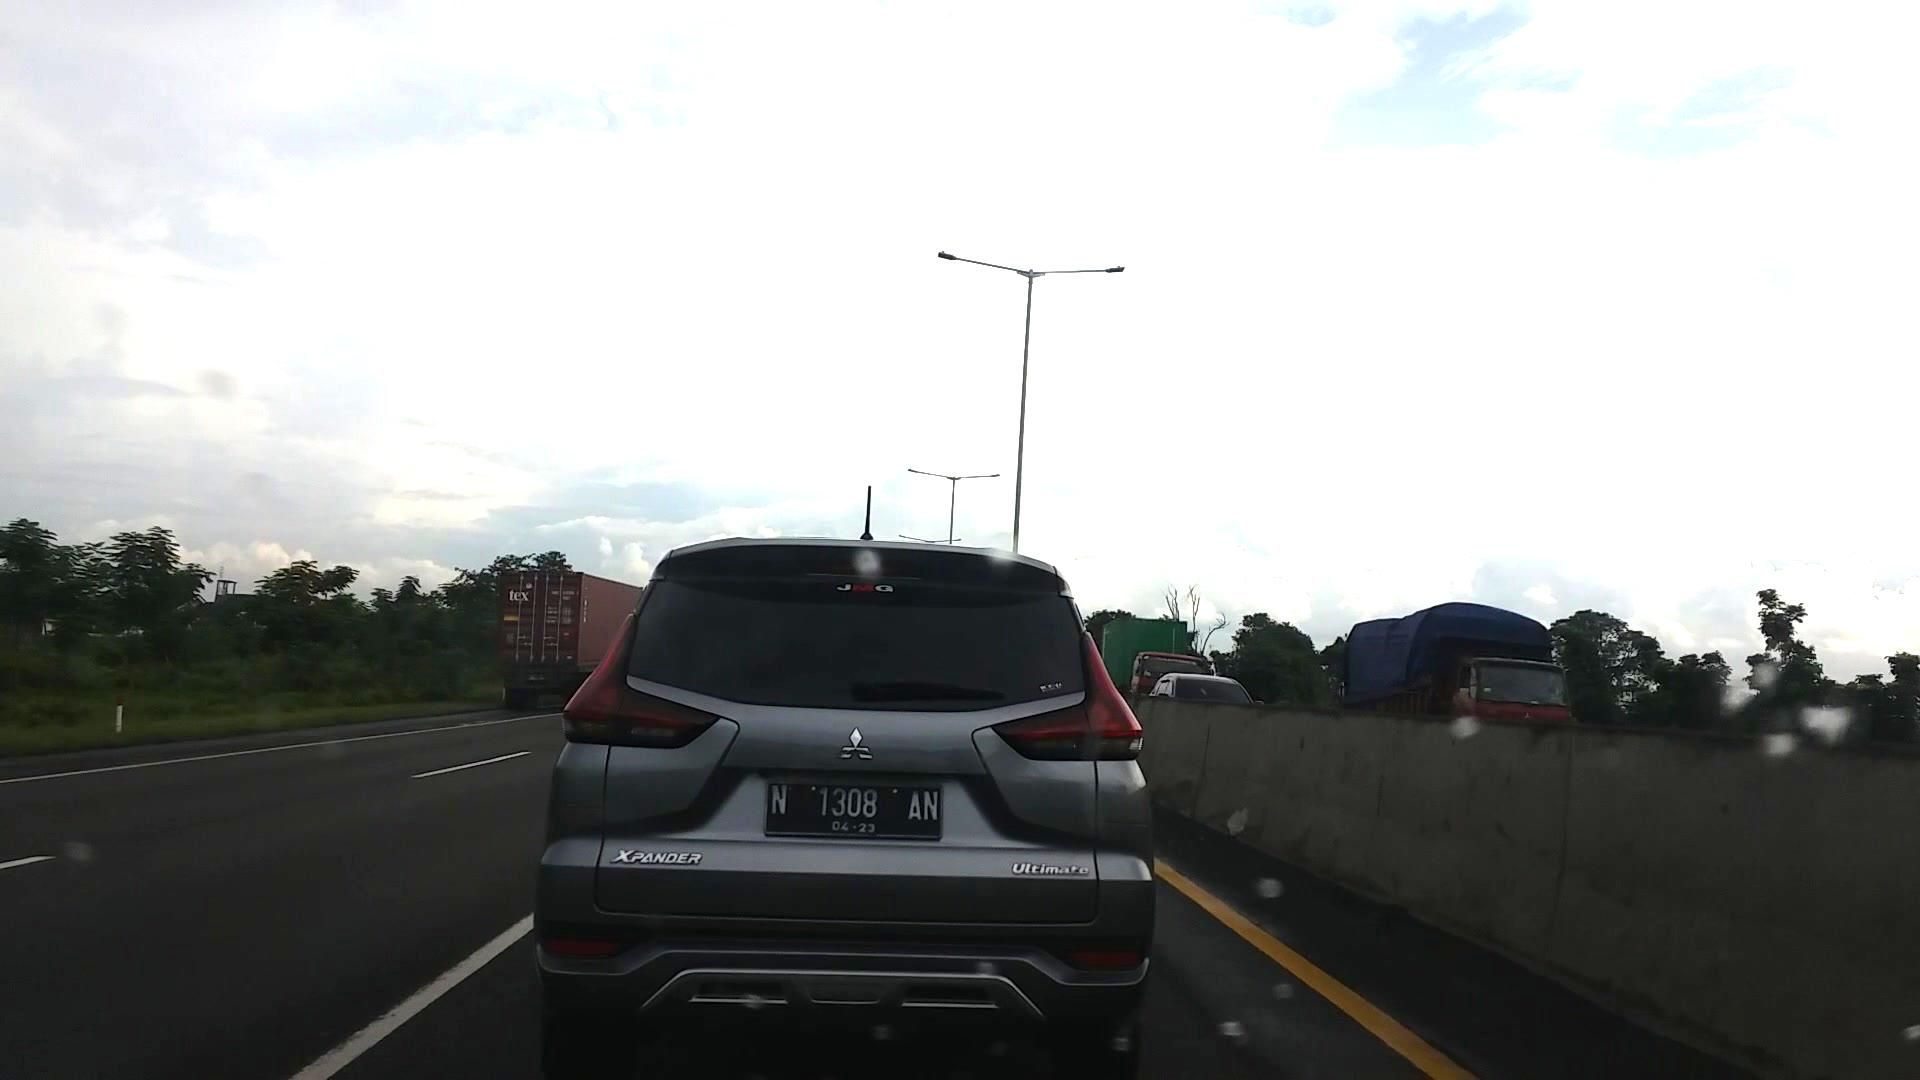plate_positive: (764, 781, 940, 841)
